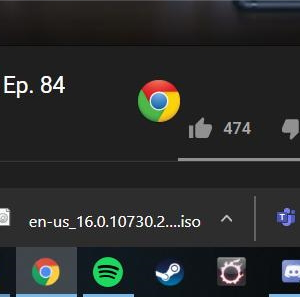chrome: (137, 79, 180, 122), (31, 256, 60, 286)
